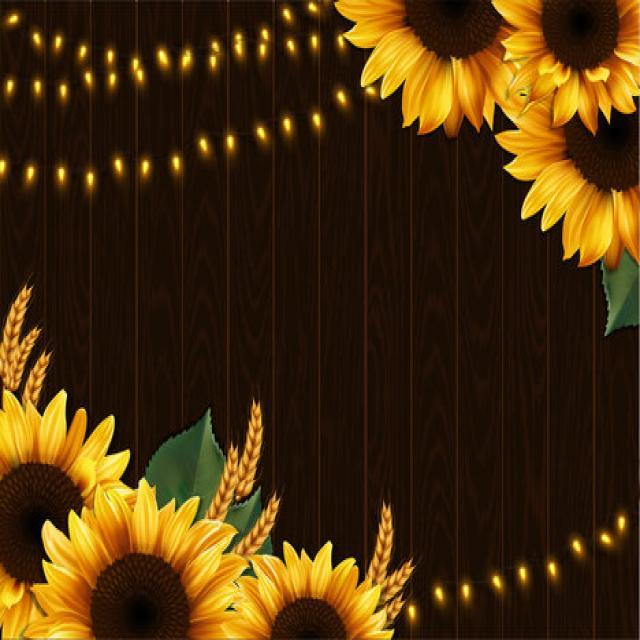sunflower: (26, 476, 246, 638), (0, 385, 131, 636), (494, 85, 638, 268), (333, 0, 522, 137), (491, 0, 638, 133), (223, 538, 394, 638)
